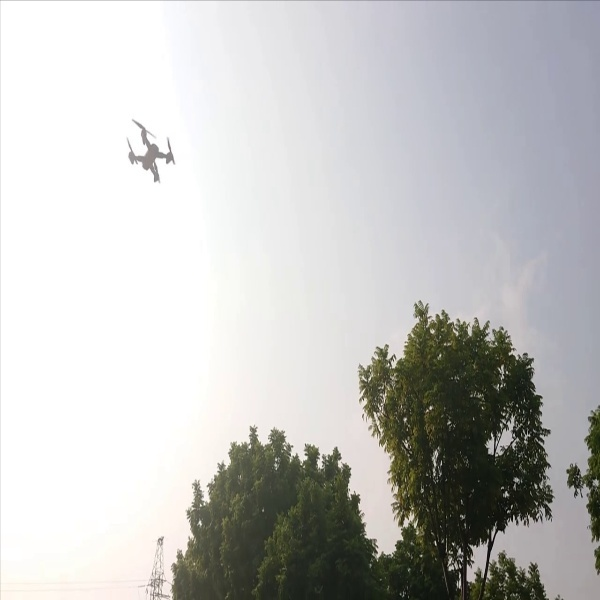drone: (108, 113, 187, 194)
